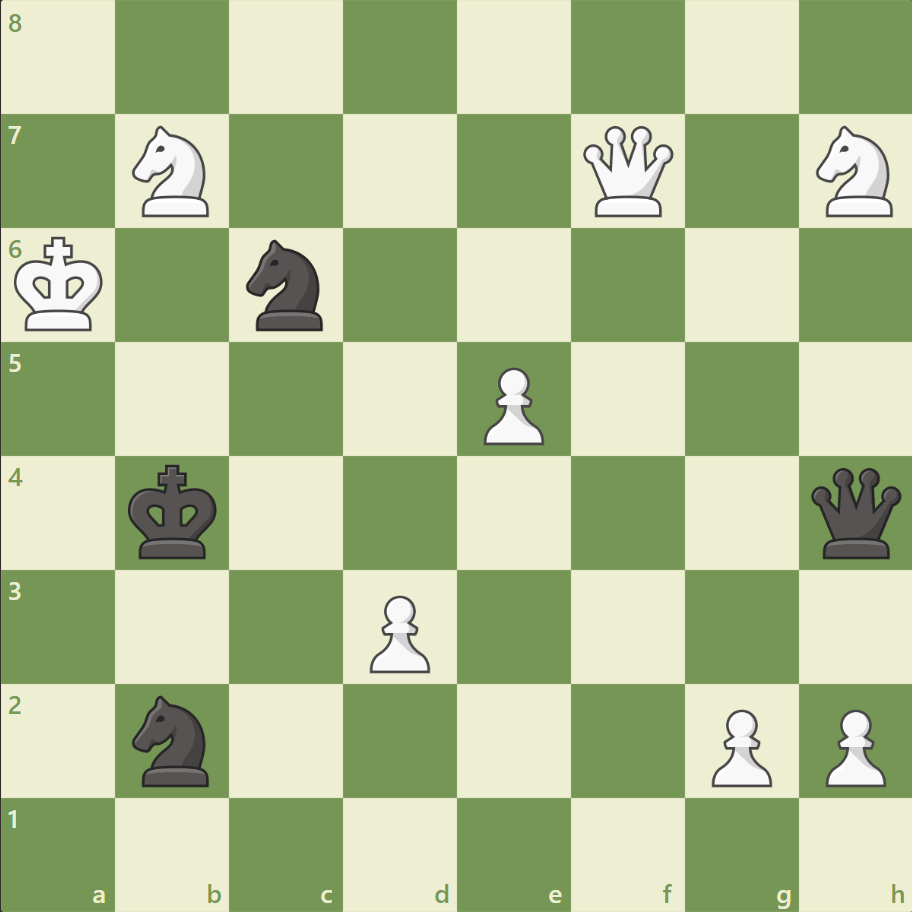K: (11, 231, 111, 339)
N: (124, 121, 222, 223), (806, 121, 903, 223)
P: (474, 359, 549, 450), (701, 700, 776, 791), (361, 586, 435, 677), (815, 700, 889, 791)
Q: (578, 122, 677, 222)
k: (124, 458, 224, 566)
n: (124, 688, 222, 791), (238, 234, 335, 337)
q: (805, 463, 904, 562)
